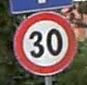limite 30: (10, 9, 76, 76)
